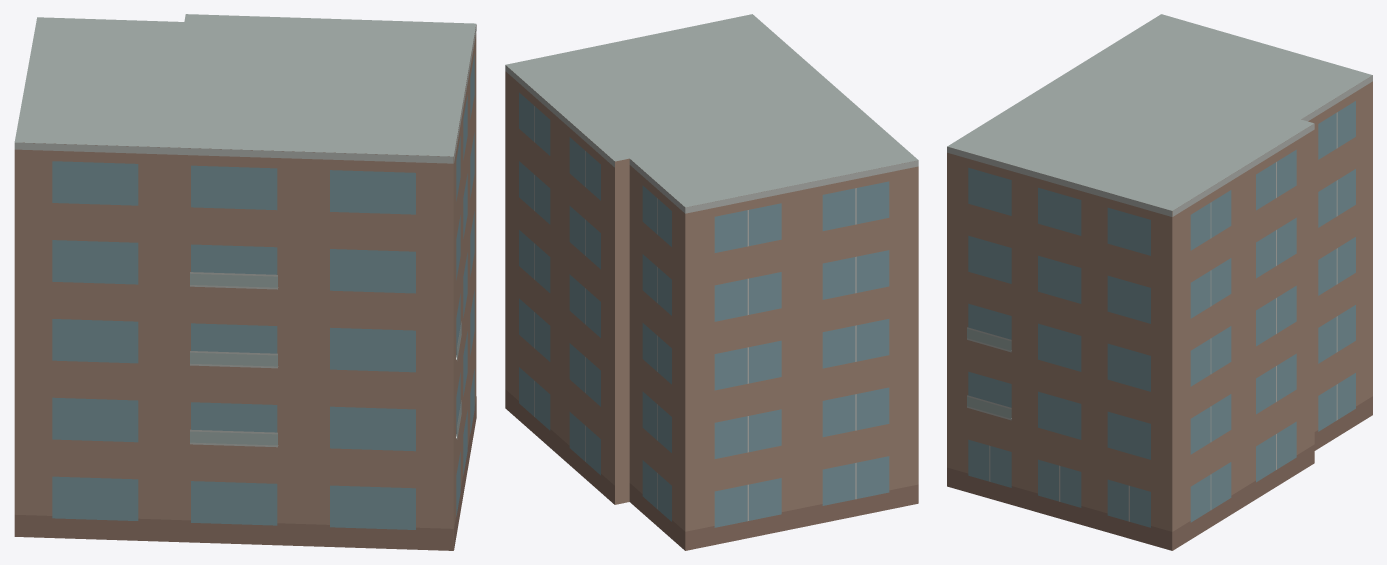
Rendered from survey-upis-33039632.glb.
3 renders of one model, left to right at view 1: azimuth 30°, elevation 25°; view 2: azimuth 150°, elevation 25°; view 3: azimuth 270°, elevation 25°, orthographic. The views are drawn at different scales.
Visible parts, largest first — view 1: survey-upis-33039632.tmp; view 2: survey-upis-33039632.tmp; view 3: survey-upis-33039632.tmp.
Part boxes in pixels (bbox=[...]): survey-upis-33039632.tmp: bbox=[14, 14, 476, 550]; survey-upis-33039632.tmp: bbox=[505, 14, 918, 550]; survey-upis-33039632.tmp: bbox=[947, 14, 1372, 550].
Bounding box in the file's own units: 16.79 × 13.5 × 15.33.
